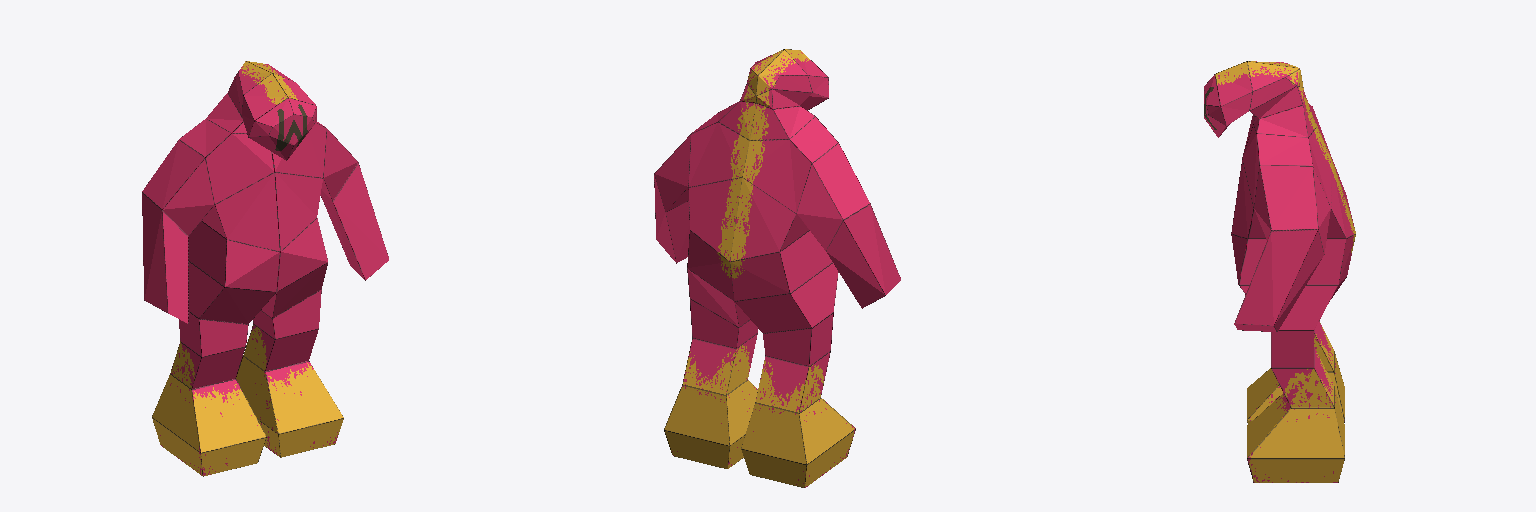
3 renders of one model, left to right at view 1: azimuth 30°, elevation 25°; view 2: azimuth 150°, elevation 25°; view 3: azimuth 270°, elevation 25°, orthographic.
Visible parts, largest first — view 1: Cube; view 2: Cube; view 3: Cube.
Boxes of the visible parts, x1=… form: Cube: x1=142, y1=61, x2=388, y2=476; Cube: x1=654, y1=49, x2=900, y2=487; Cube: x1=1204, y1=61, x2=1355, y2=482.
Size of the model in its own units: 1.73 by 2.8 by 0.9906.
1 materials, 1 textured.